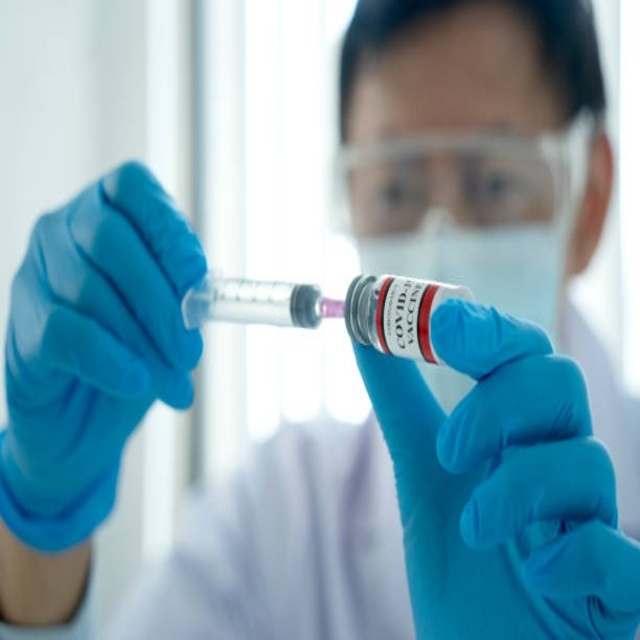Gafas: (331, 116, 589, 244)
Guantes: (350, 289, 637, 627), (0, 159, 210, 552)
Mascara: (346, 199, 574, 348)
